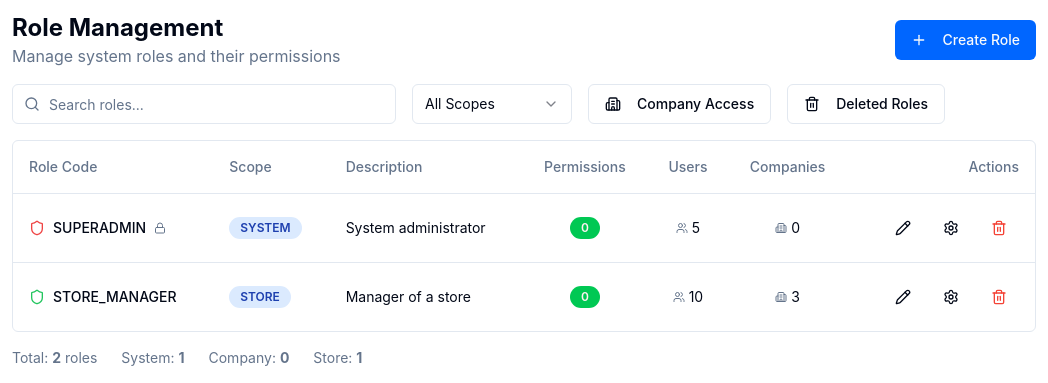
Test: 2.93-COMPONENT: AdminRoleList - Filtering › [P1] 2.93-COMPONENT-011: should filter roles by scope
Note: User selects STORE scope filter
Step 1. Click the dropdown with test id "scope-filter" → x=492, y=104, box [412,84,572,124]
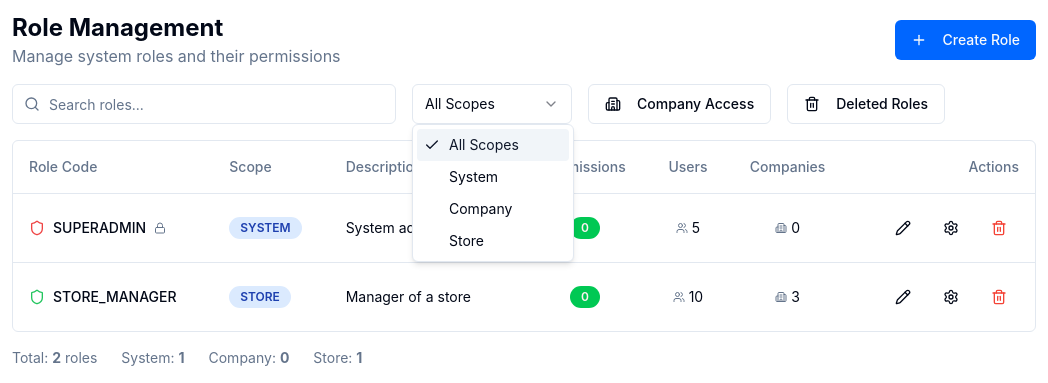
Note: Find and click STORE option
Step 2. Click the option "Store" → x=466, y=240, box [449,232,484,249]
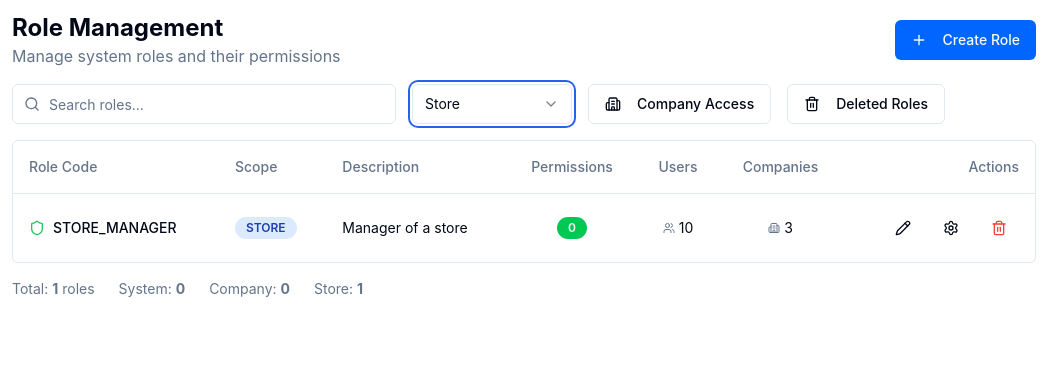
expect the text "STORE_MANAGER" is shown: met, box [53,218,177,238]
expect the text "SUPERADMIN" is gone: met
